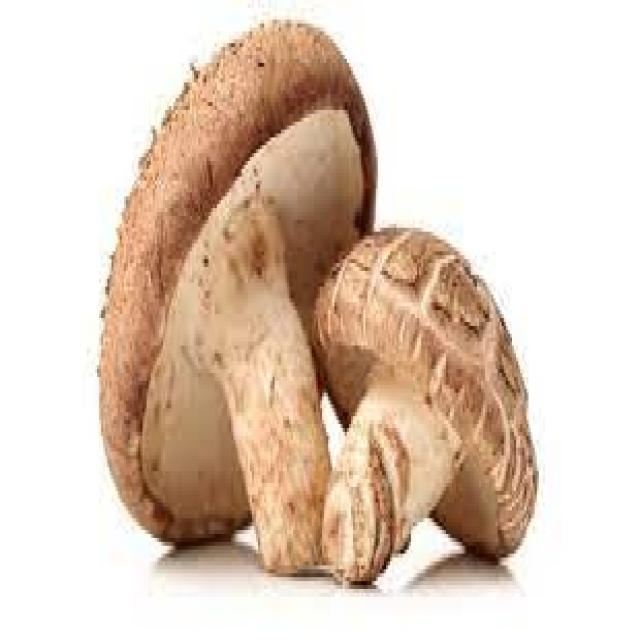Mushroom: (101, 20, 374, 568), (314, 232, 539, 583)
